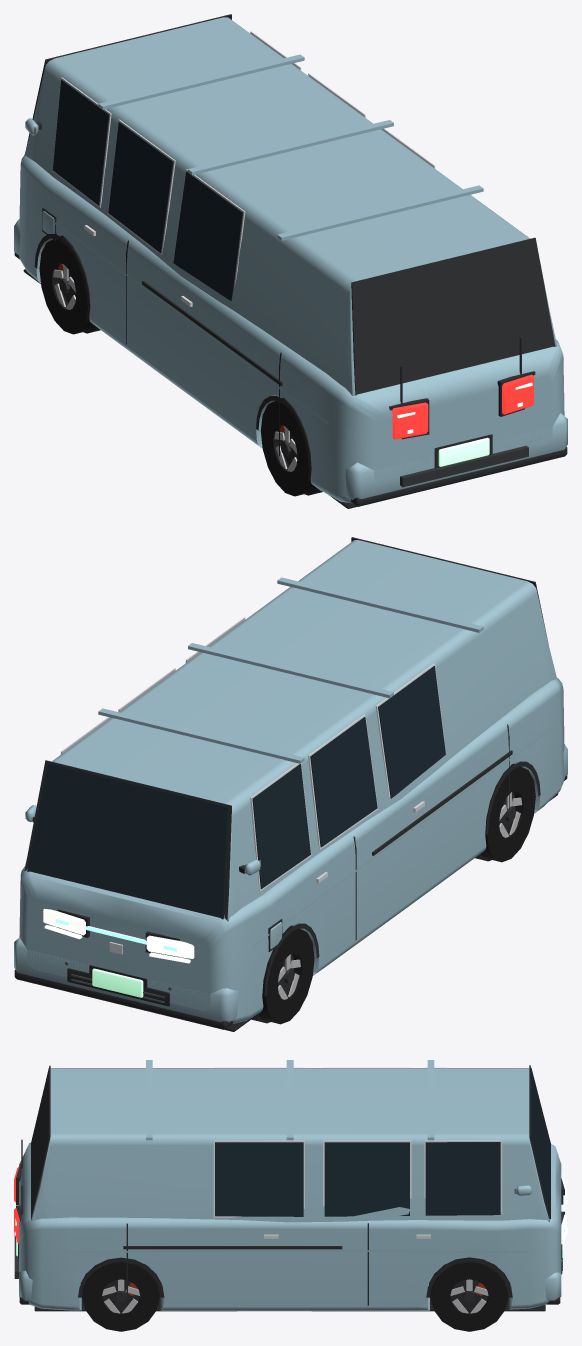
The model's file is car_nev_van_blue.glb.
The picture shows the model from 3 angles, top to bottom: view 1: azimuth 30°, elevation 25°; view 2: azimuth 150°, elevation 25°; view 3: azimuth 270°, elevation 25°; orthographic projection. The views are drawn at different scales.
Parts seen in each view (by area): view 1: Body, Trim, Glass, Wheel_FL, Wheel_RL, Lights, Plate_R; view 2: Body, Glass, Trim, Wheel_FL, Wheel_RL, Lights, Plate_F; view 3: Body, Glass, Trim, Wheel_FR, Wheel_RR, Lights.
Part boxes in pixels (x1,y1,x2,y2): Body: (14,17,567,503); Trim: (14,14,567,508); Glass: (34,80,242,301); Wheel_FL: (39,236,94,334); Wheel_RL: (260,398,316,496); Lights: (391,374,533,439); Plate_R: (438,437,489,466); Body: (14,540,567,1023); Glass: (27,666,445,919); Trim: (14,537,567,1031); Wheel_FL: (258,926,314,1024); Wheel_RL: (480,764,535,862); Lights: (43,908,194,963); Plate_F: (92,968,143,997); Body: (19,1068,561,1311); Glass: (215,1068,550,1219); Trim: (14,1060,565,1311); Wheel_FR: (431,1257,507,1331); Wheel_RR: (82,1257,159,1331); Lights: (14,1166,567,1244).
Bounding box in the file's own units: 2.04 × 2.02 × 5.31.
